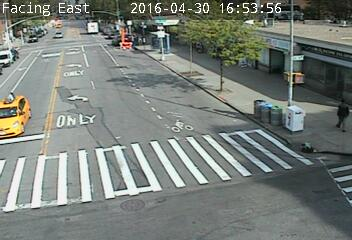neg: (222, 151, 261, 203), (39, 111, 74, 157)
